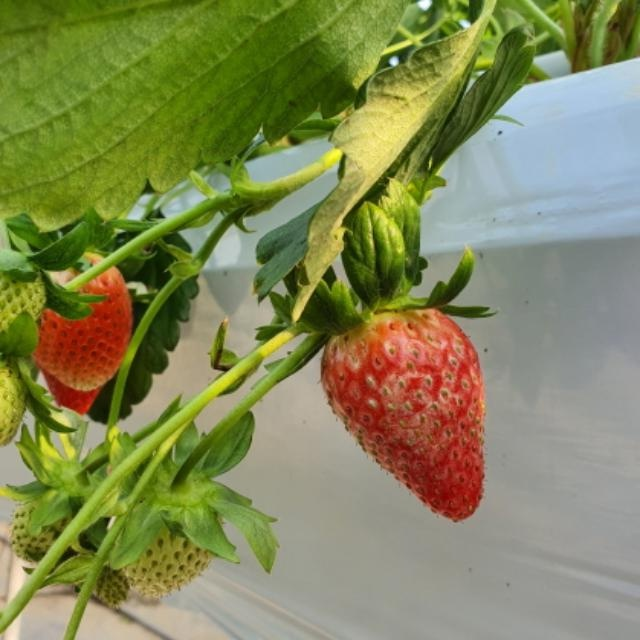Powdery Mildew Fruit: (321, 308, 487, 524)
